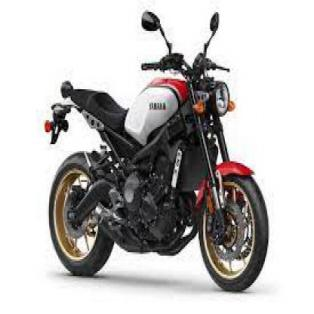Motocicleta: (37, 10, 271, 296)
